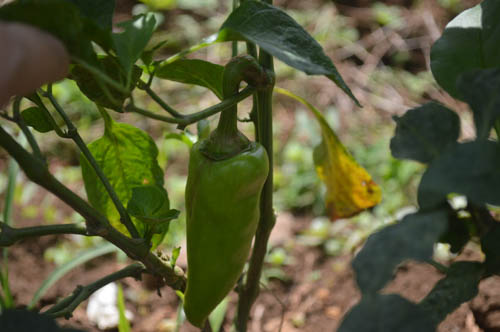ChiliPepper: (182, 142, 271, 332)
